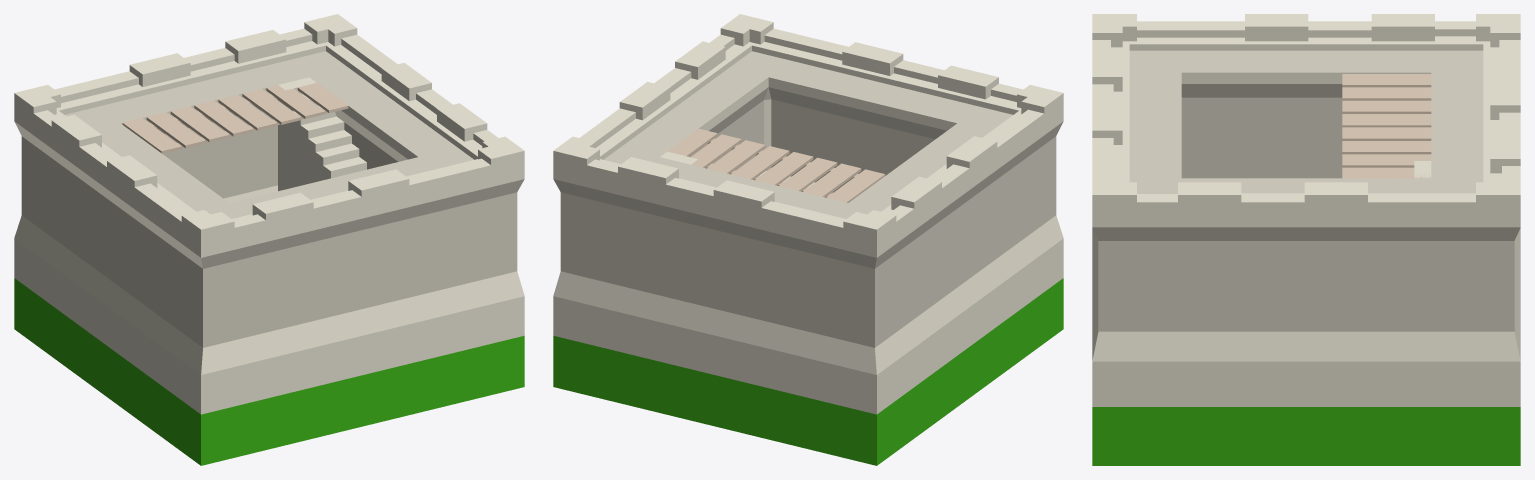
The model's file is wall.glb.
3 views of the same model, side by side, from view 1: azimuth 30°, elevation 25°; view 2: azimuth 150°, elevation 25°; view 3: azimuth 270°, elevation 25° (orthographic). The views are drawn at different scales.
Parts seen in each view (by area): view 1: Mesh1 Group1 Model.006; view 2: Mesh1 Group1 Model.006; view 3: Mesh1 Group1 Model.006.
Part boxes in pixels (x1,y1,x2,y2): Mesh1 Group1 Model.006: (14,14,524,465); Mesh1 Group1 Model.006: (553,14,1063,465); Mesh1 Group1 Model.006: (1092,14,1520,465).
Size of the model in its own units: 12 by 8.37 by 12.
